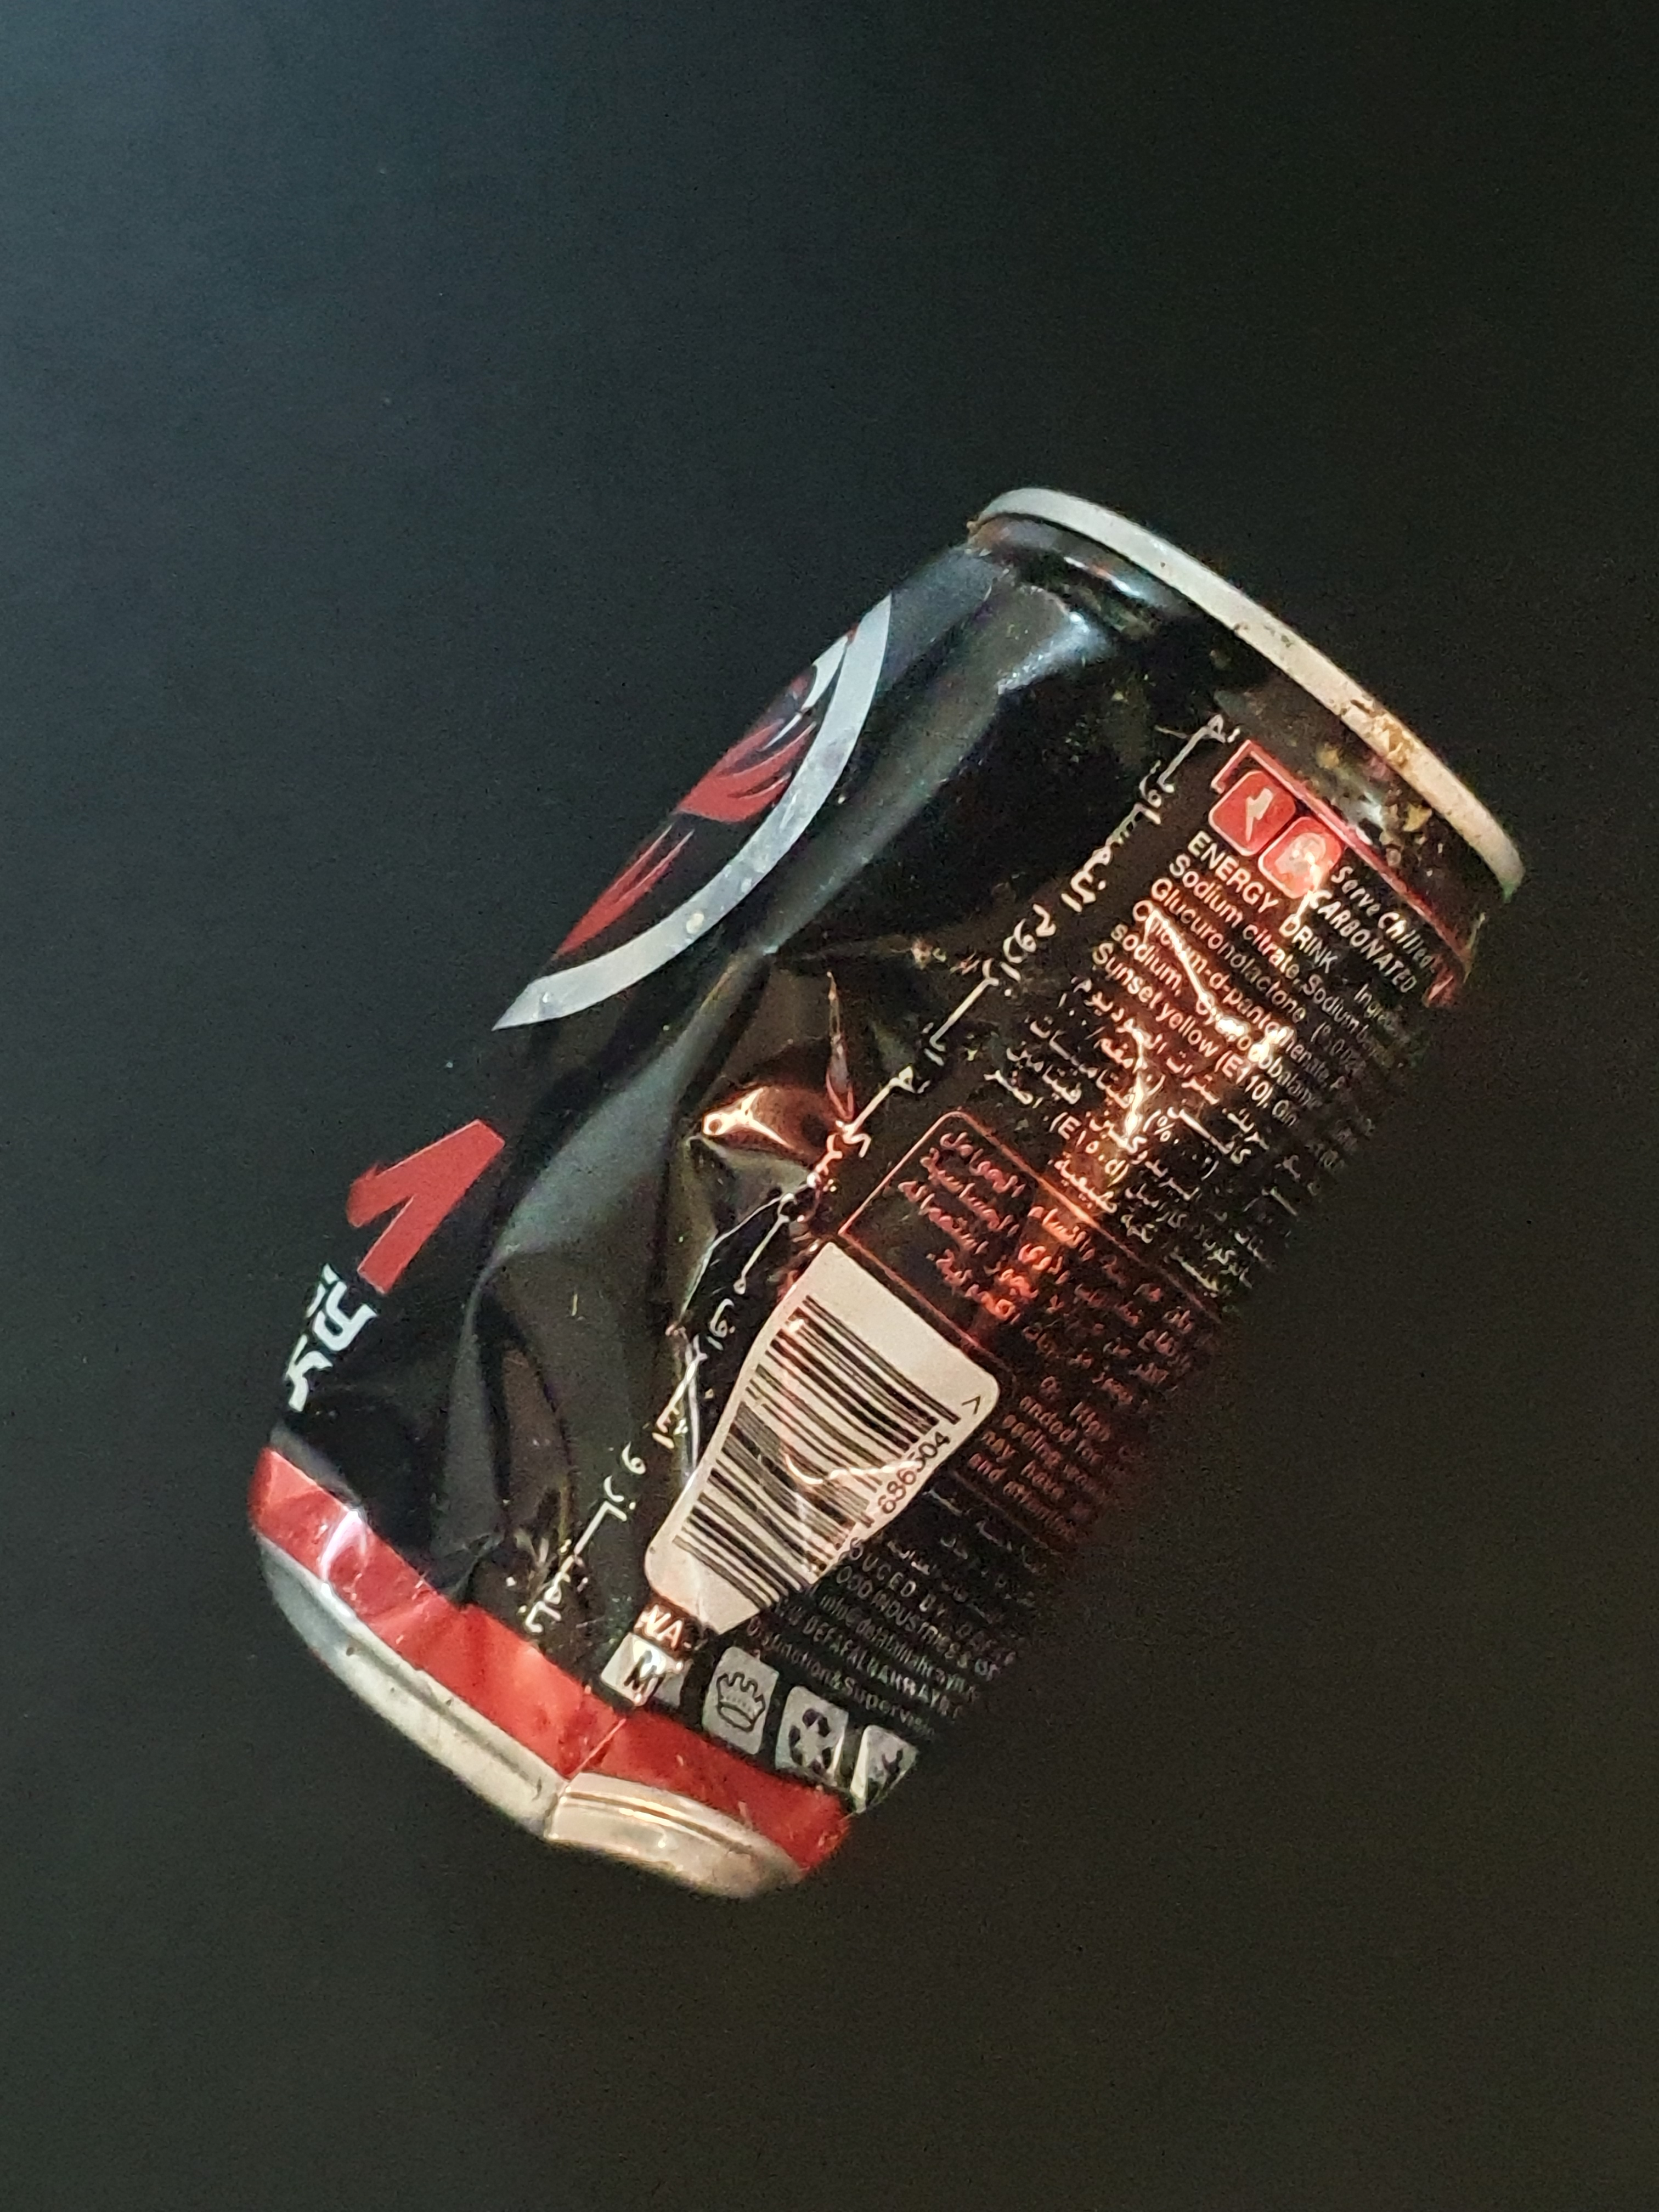metal: (211, 448, 1560, 1940)
